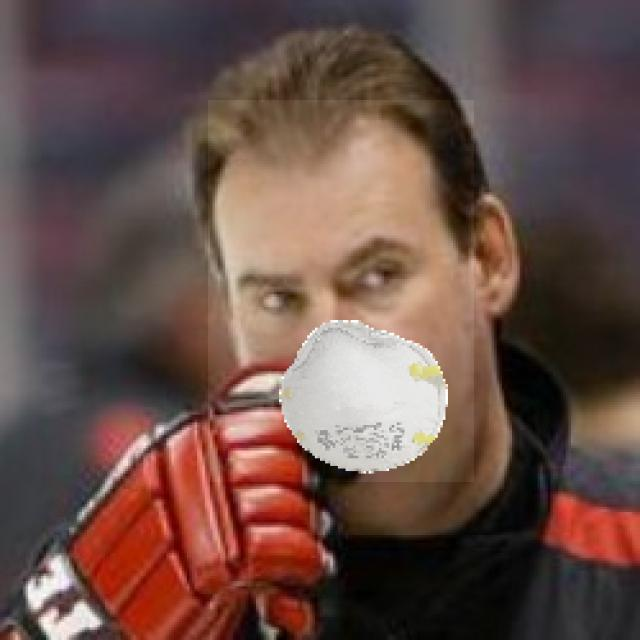n95: (208, 101, 474, 483)
